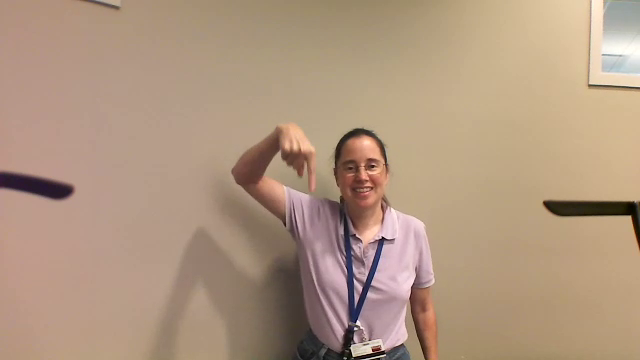down: (261, 116, 323, 198)
